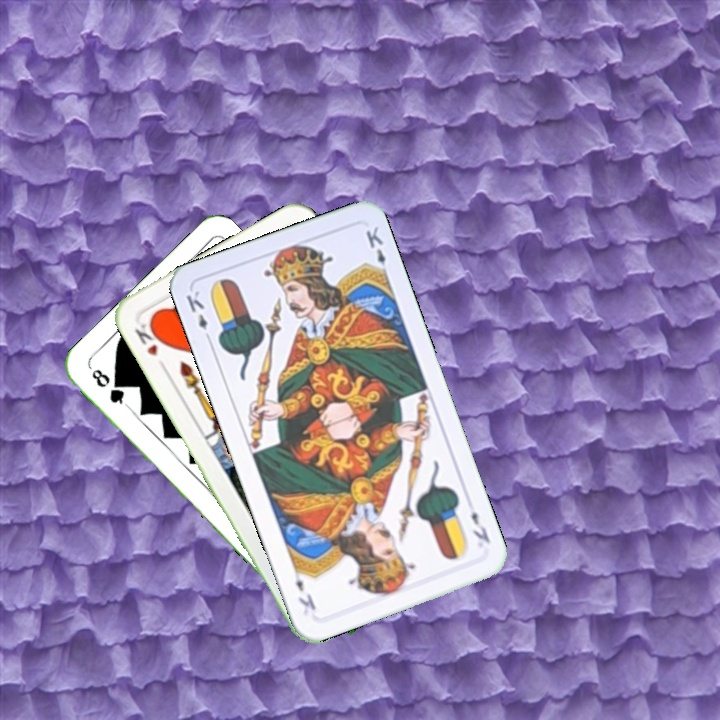EK: (181, 286, 215, 345), (467, 507, 493, 546)
G8: (87, 364, 132, 411)
HK: (130, 317, 166, 359)
